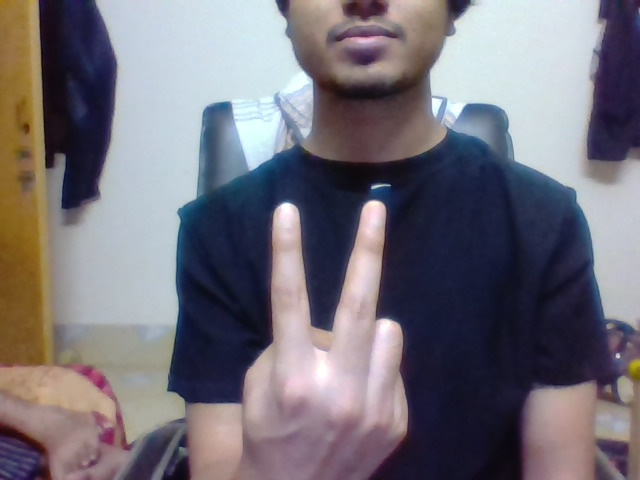V: (267, 195, 389, 373)
